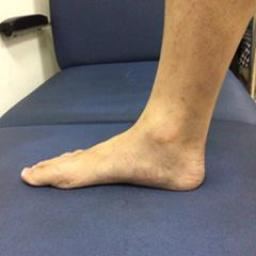Medial View -Right Foot-: (14, 95, 225, 207)
